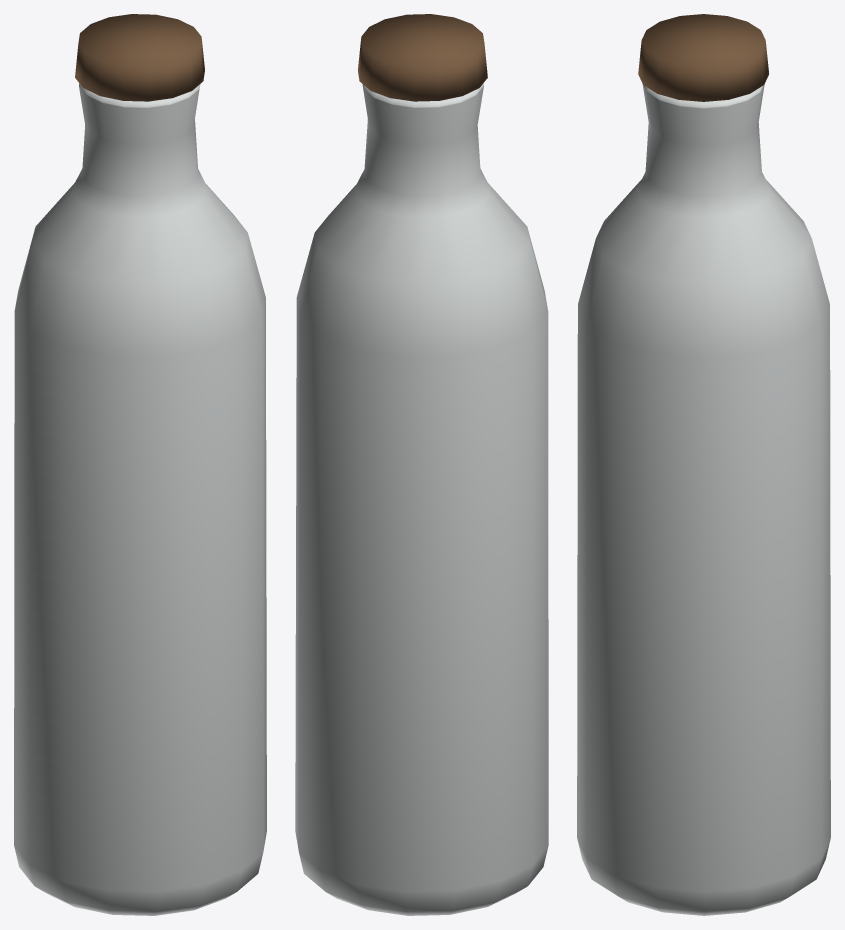
The model's file is bottle_whisky_lod2.glb.
The picture shows the model from 3 angles, left to right: view 1: azimuth 30°, elevation 25°; view 2: azimuth 150°, elevation 25°; view 3: azimuth 270°, elevation 25°; orthographic projection.
Visible parts, largest first — view 1: Glass, Cap; view 2: Glass, Cap; view 3: Glass, Cap.
Part boxes in pixels (x1,y1,x2,y2): Glass: [14, 83, 266, 915]; Cap: [75, 14, 204, 101]; Glass: [295, 83, 548, 915]; Cap: [358, 14, 487, 101]; Glass: [577, 84, 830, 915]; Cap: [638, 14, 768, 101].
Size of the model in its own units: 0.0769 by 0.2765 by 0.0765.
